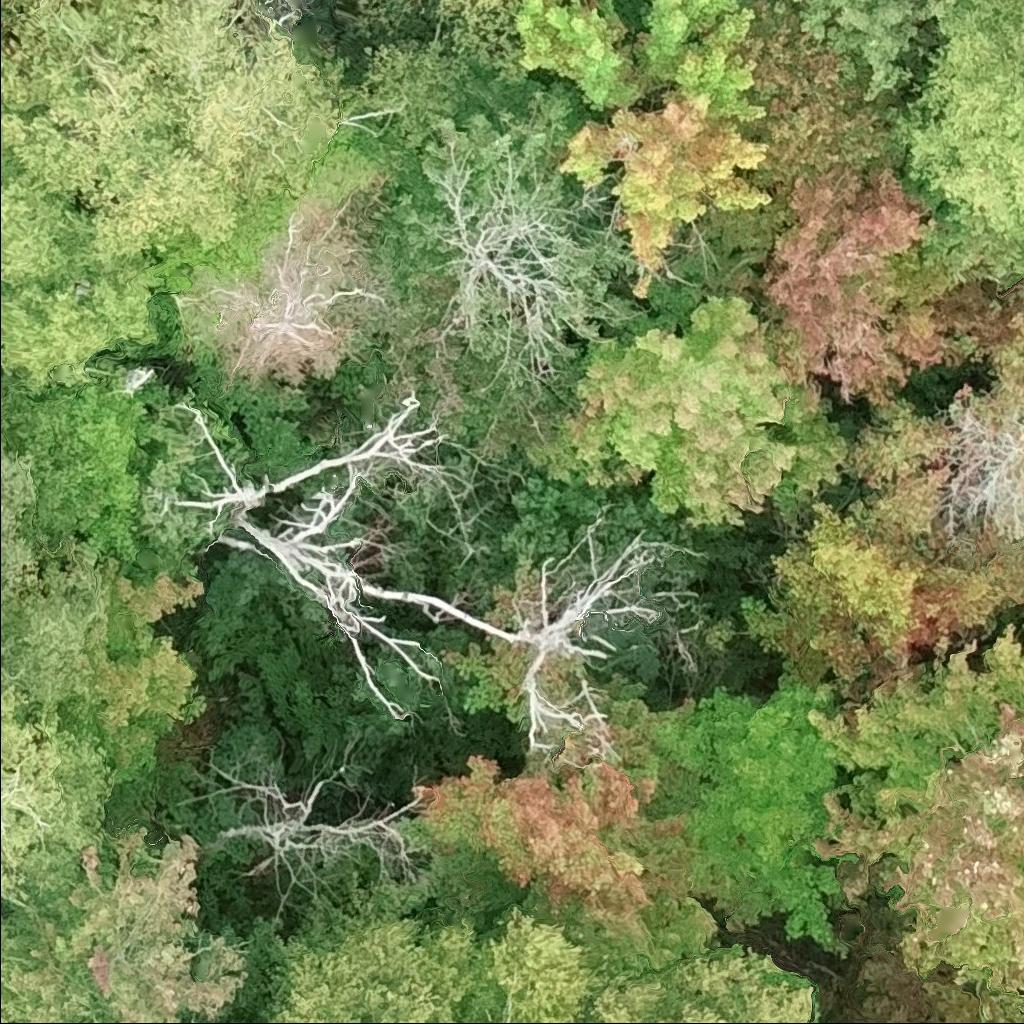crown: (808, 625, 1023, 1023), (521, 276, 852, 532), (355, 527, 706, 767), (391, 737, 722, 970), (604, 659, 847, 952), (0, 0, 244, 285), (740, 489, 1023, 697), (77, 0, 344, 207), (701, 0, 915, 252), (214, 489, 441, 722), (756, 165, 976, 405), (0, 824, 252, 1023), (260, 882, 612, 1023), (555, 84, 776, 301), (885, 0, 1023, 252), (57, 570, 210, 793), (200, 769, 421, 922), (513, 0, 772, 121), (0, 685, 112, 964), (0, 546, 124, 712), (0, 264, 159, 393), (583, 947, 820, 1023), (842, 397, 956, 539), (359, 0, 536, 84), (787, 0, 923, 99), (497, 466, 615, 565), (0, 433, 41, 612), (0, 642, 27, 689), (911, 0, 958, 22)
